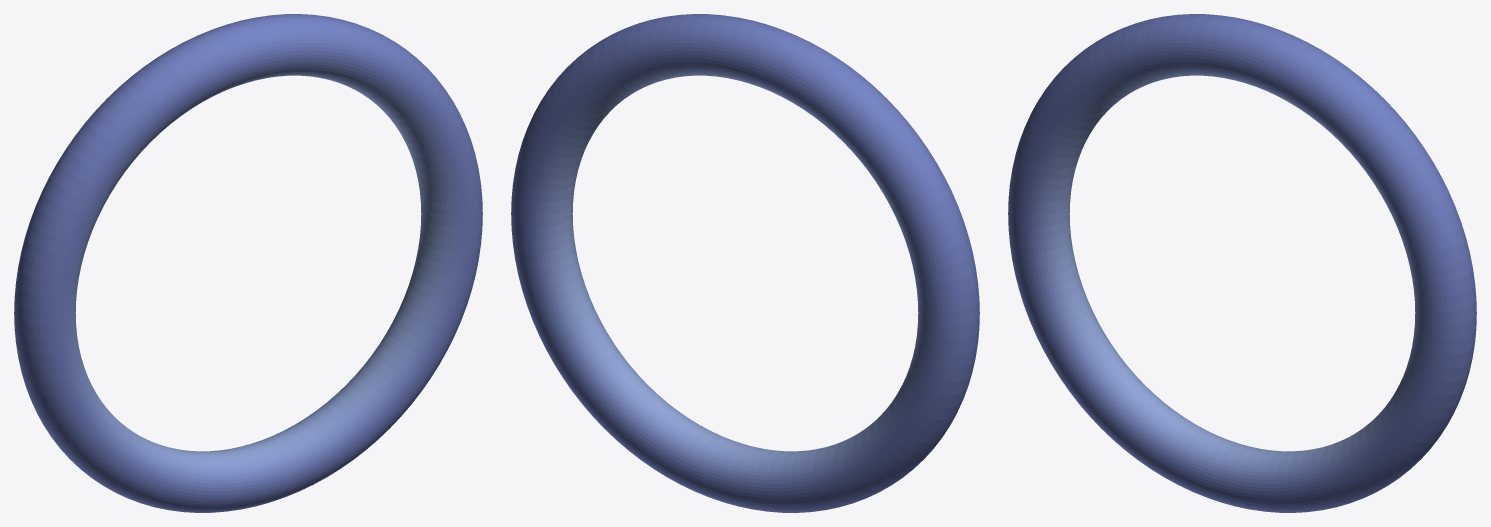
The picture shows the model from 3 angles, left to right: view 1: azimuth 30°, elevation 25°; view 2: azimuth 150°, elevation 25°; view 3: azimuth 330°, elevation 25°; orthographic projection.
Visible parts, largest first — view 1: world; view 2: world; view 3: world.
Boxes of the visible parts, x1,y1,x2,y2 form: world: [14, 14, 482, 512]; world: [511, 14, 979, 512]; world: [1008, 14, 1476, 512].
Bounding box in the file's own units: 24.13 × 24.13 × 2.79.
